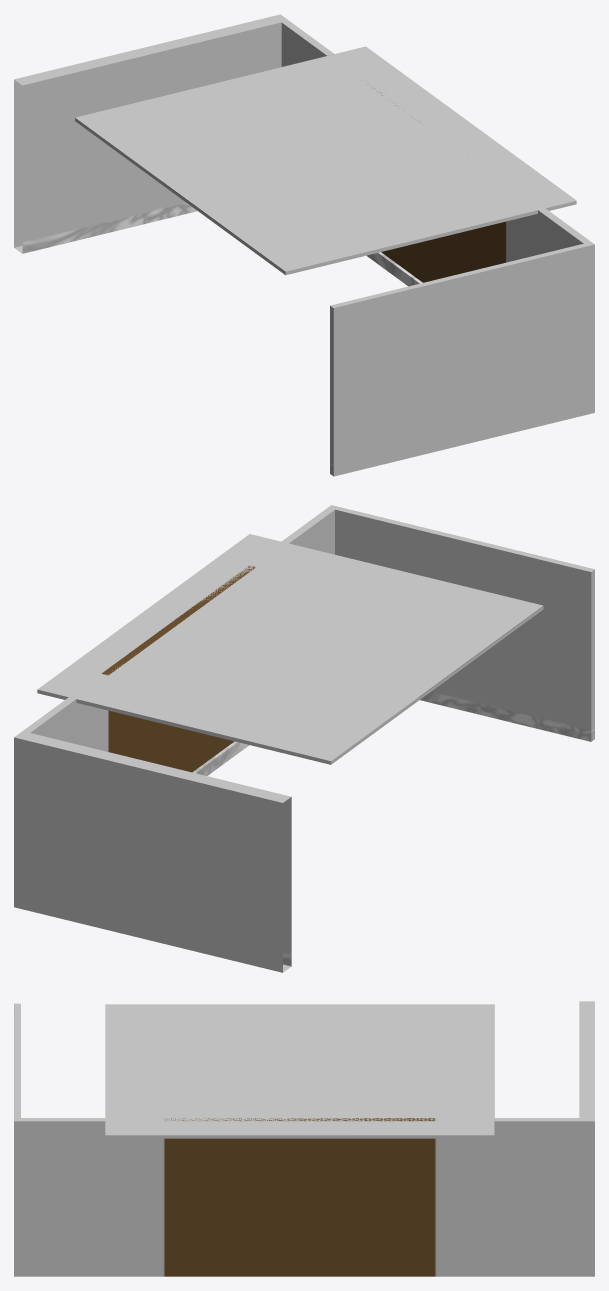
The model's file is paredes_1.gltf.
3 renders of one model, top to bottom at view 1: azimuth 30°, elevation 25°; view 2: azimuth 150°, elevation 25°; view 3: azimuth 270°, elevation 25°, orthographic. The views are drawn at different scales.
Parts seen in each view (by area): view 1: Plane.001; view 2: Plane.001; view 3: Plane.001.
Part boxes in pixels (bbox=[...]): Plane.001: bbox=[14, 14, 594, 476]; Plane.001: bbox=[14, 505, 594, 972]; Plane.001: bbox=[14, 1001, 594, 1276].
Bounding box in the file's own units: 2.79 × 1.51 × 5.1.
Materials: 1 (1 with a texture image).
